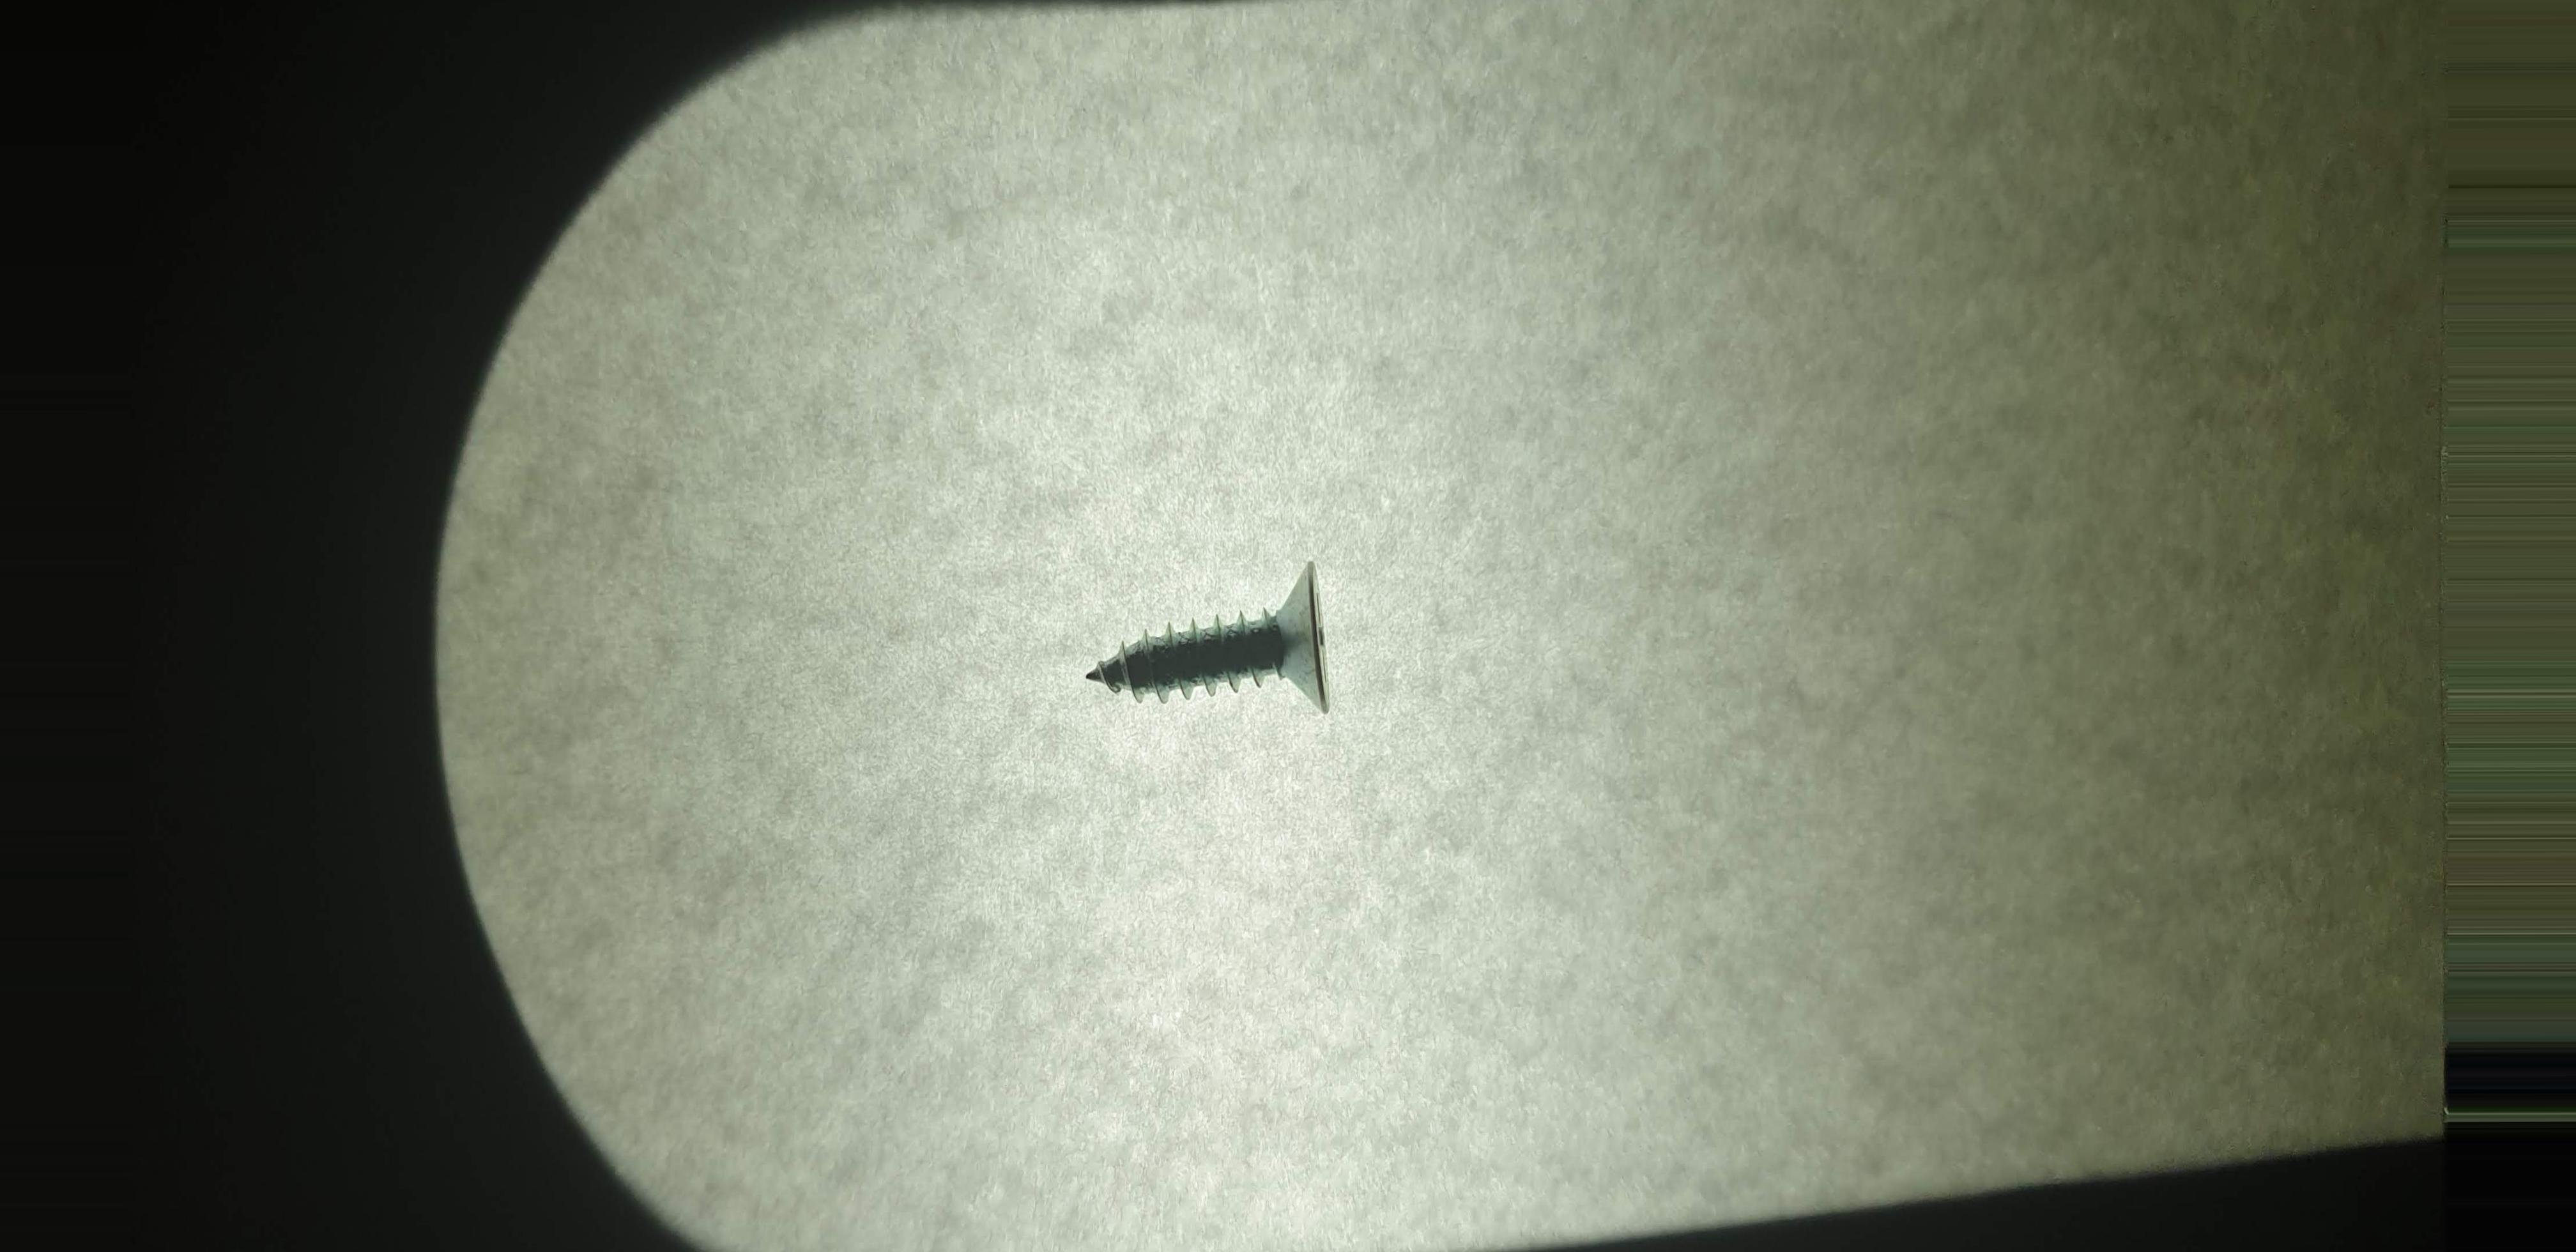S003: (1063, 544, 1391, 761)
